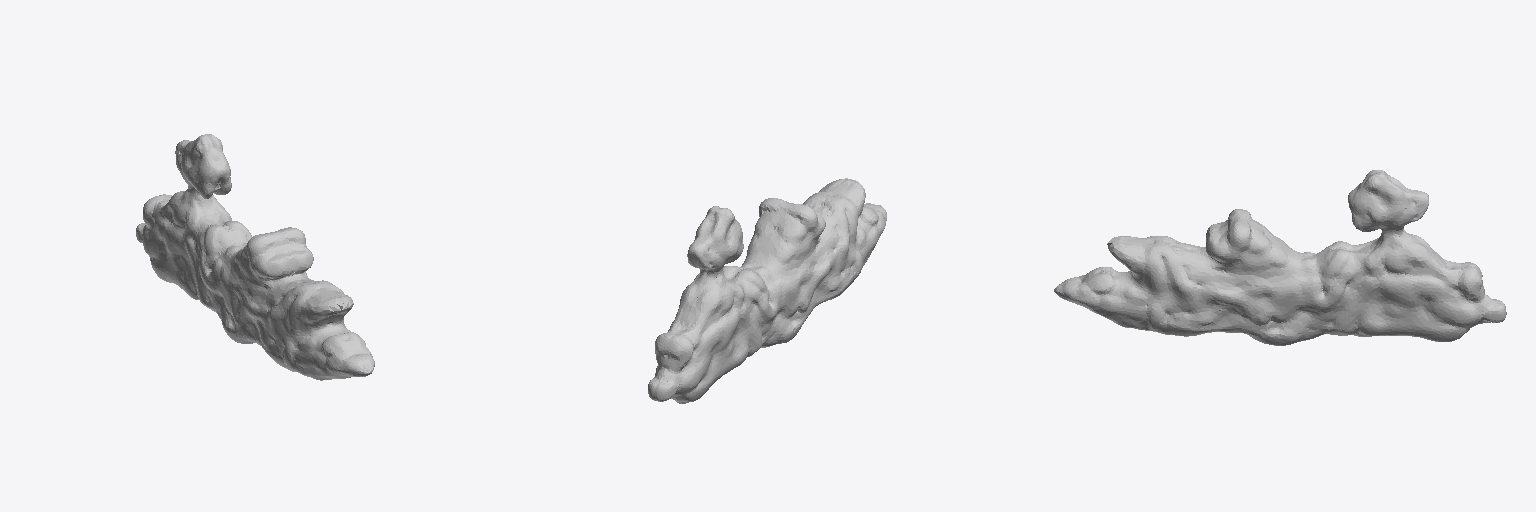
File: island5.obj
3 renders of one model, left to right at view 1: azimuth 30°, elevation 25°; view 2: azimuth 150°, elevation 25°; view 3: azimuth 270°, elevation 25°, orthographic.
Visible parts, largest first — view 1: island5.001; view 2: island5.001; view 3: island5.001.
Part boxes in pixels (bbox=[...]): island5.001: bbox=[136, 134, 374, 380]; island5.001: bbox=[648, 178, 886, 403]; island5.001: bbox=[1054, 170, 1506, 345].
Bounding box in the file's own units: 4.87 × 11.95 × 29.2.